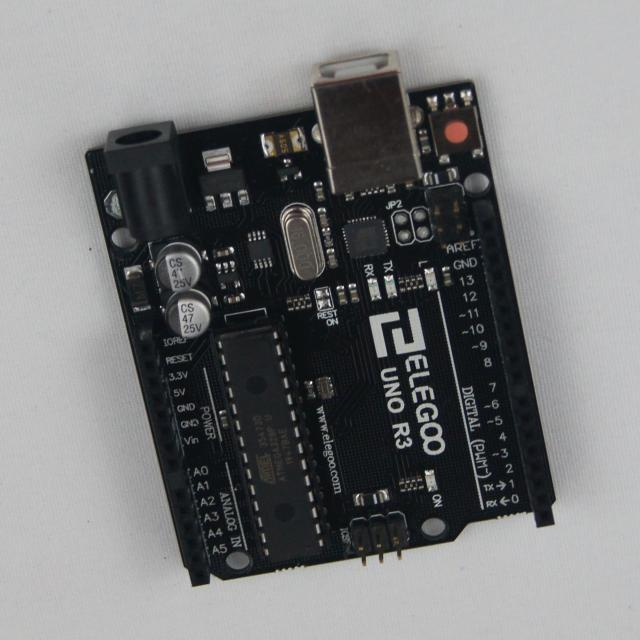Arduino Uno -Black-: (87, 54, 554, 586)
